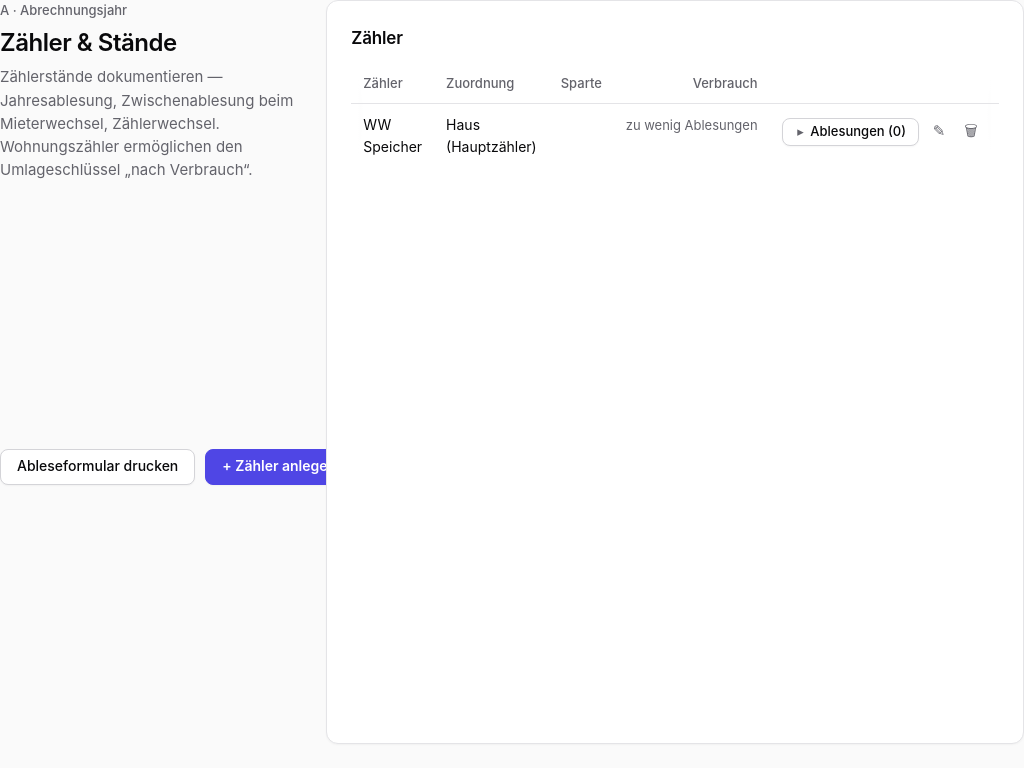
Test case: ein Zähler der Anlage zeigt seine gespeicherte Rolle
Click the button named "Zähler bearbeiten" at (939,130), box [923,114,955,146]
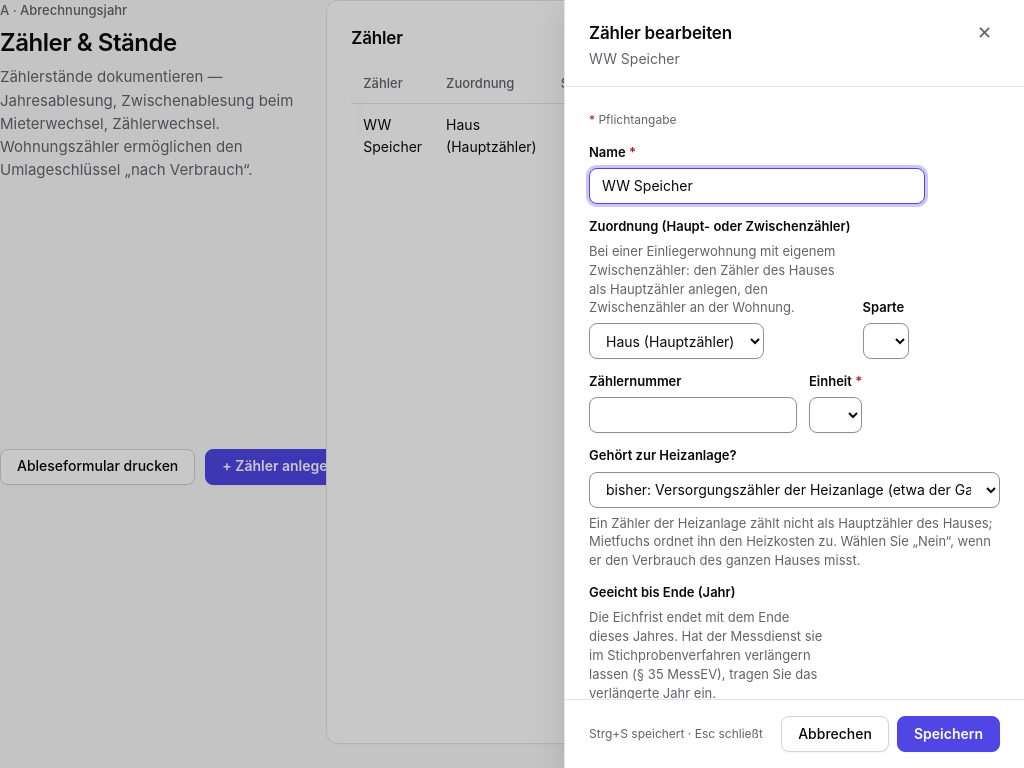
Check: the dropdown labelled "Gehört zur Heizanlage" shows "bisher: Versorgungszähler der Heizanlage (etwa der Gaszähler)", box [589,472,1000,508]
